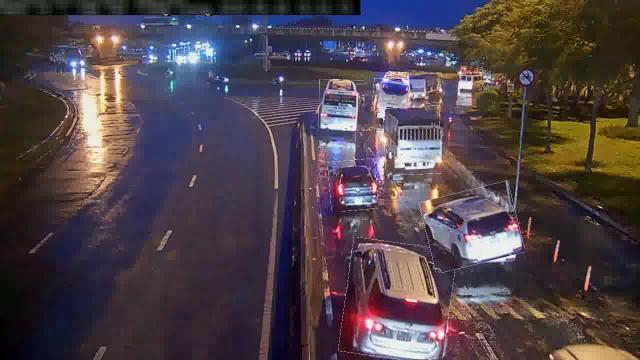Bus: (320, 80, 364, 132), (373, 79, 421, 113)
Car: (342, 241, 454, 360), (422, 185, 522, 268), (328, 160, 378, 212)
Truck: (384, 107, 441, 175), (410, 73, 442, 103)
